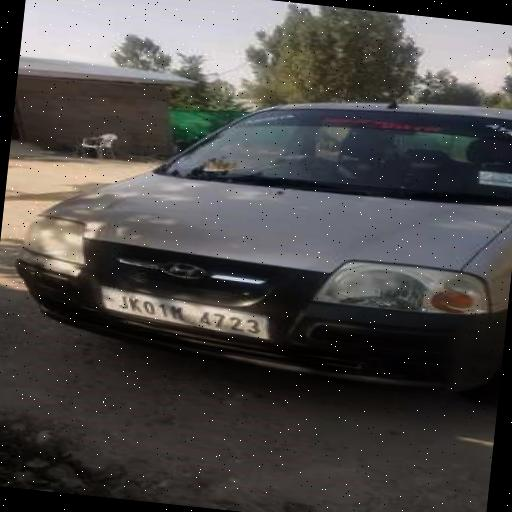license_plate`: (94, 284, 267, 341)
